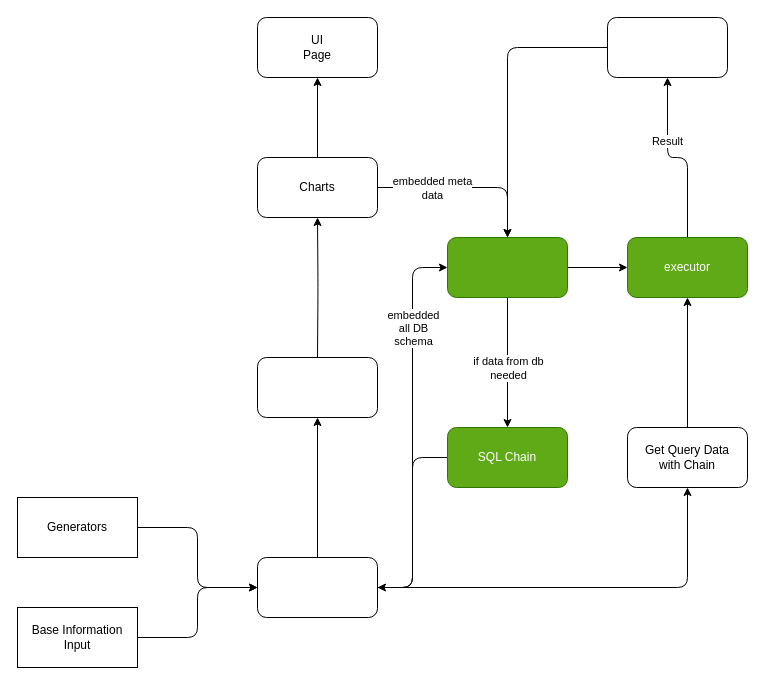
Image size: 765x685. Some labels were removed from this diagram. The shapes that lost their labels are listed below. From the top down, each one's centre as x and y in pixels, then its label:
At (667,47): "UI Q&A".
At (507,267): "LLM Model".
At (317,387): "API Data Processor".
At (317,587): "DB".
